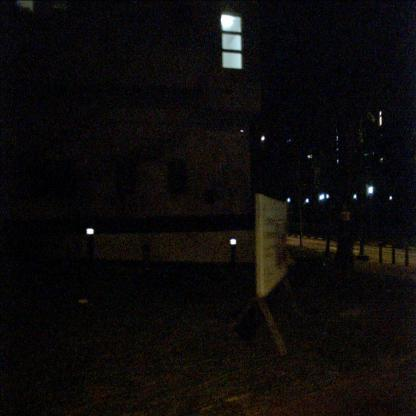barrier: (98, 108, 250, 219), (1, 107, 98, 218)
